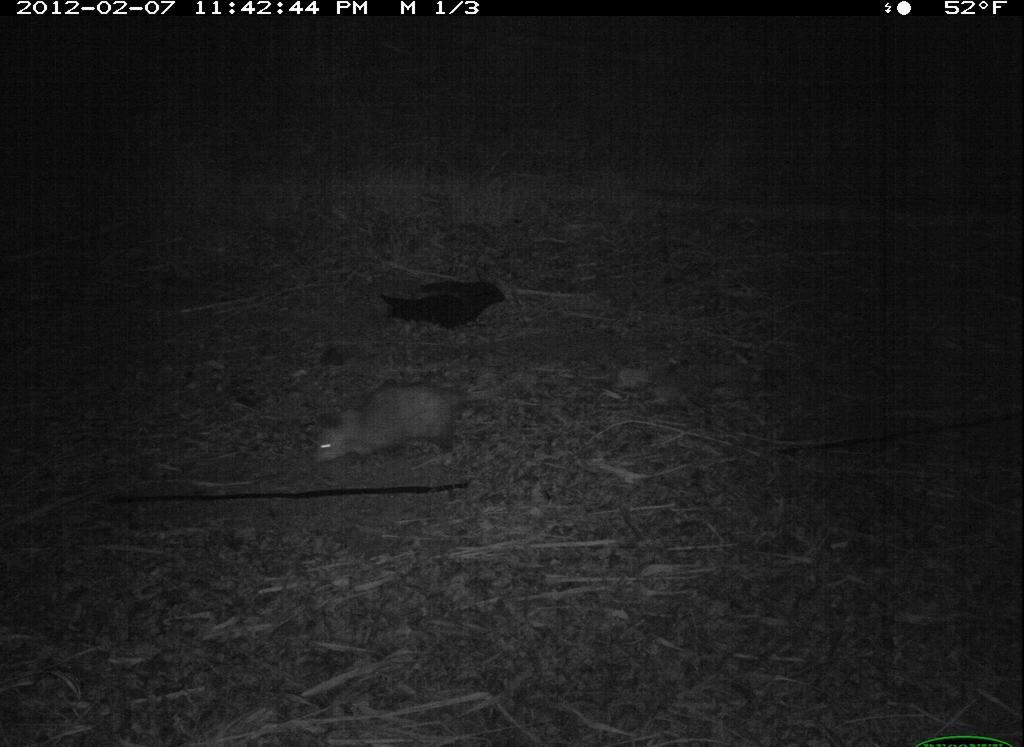opossum: (310, 373, 528, 475)
